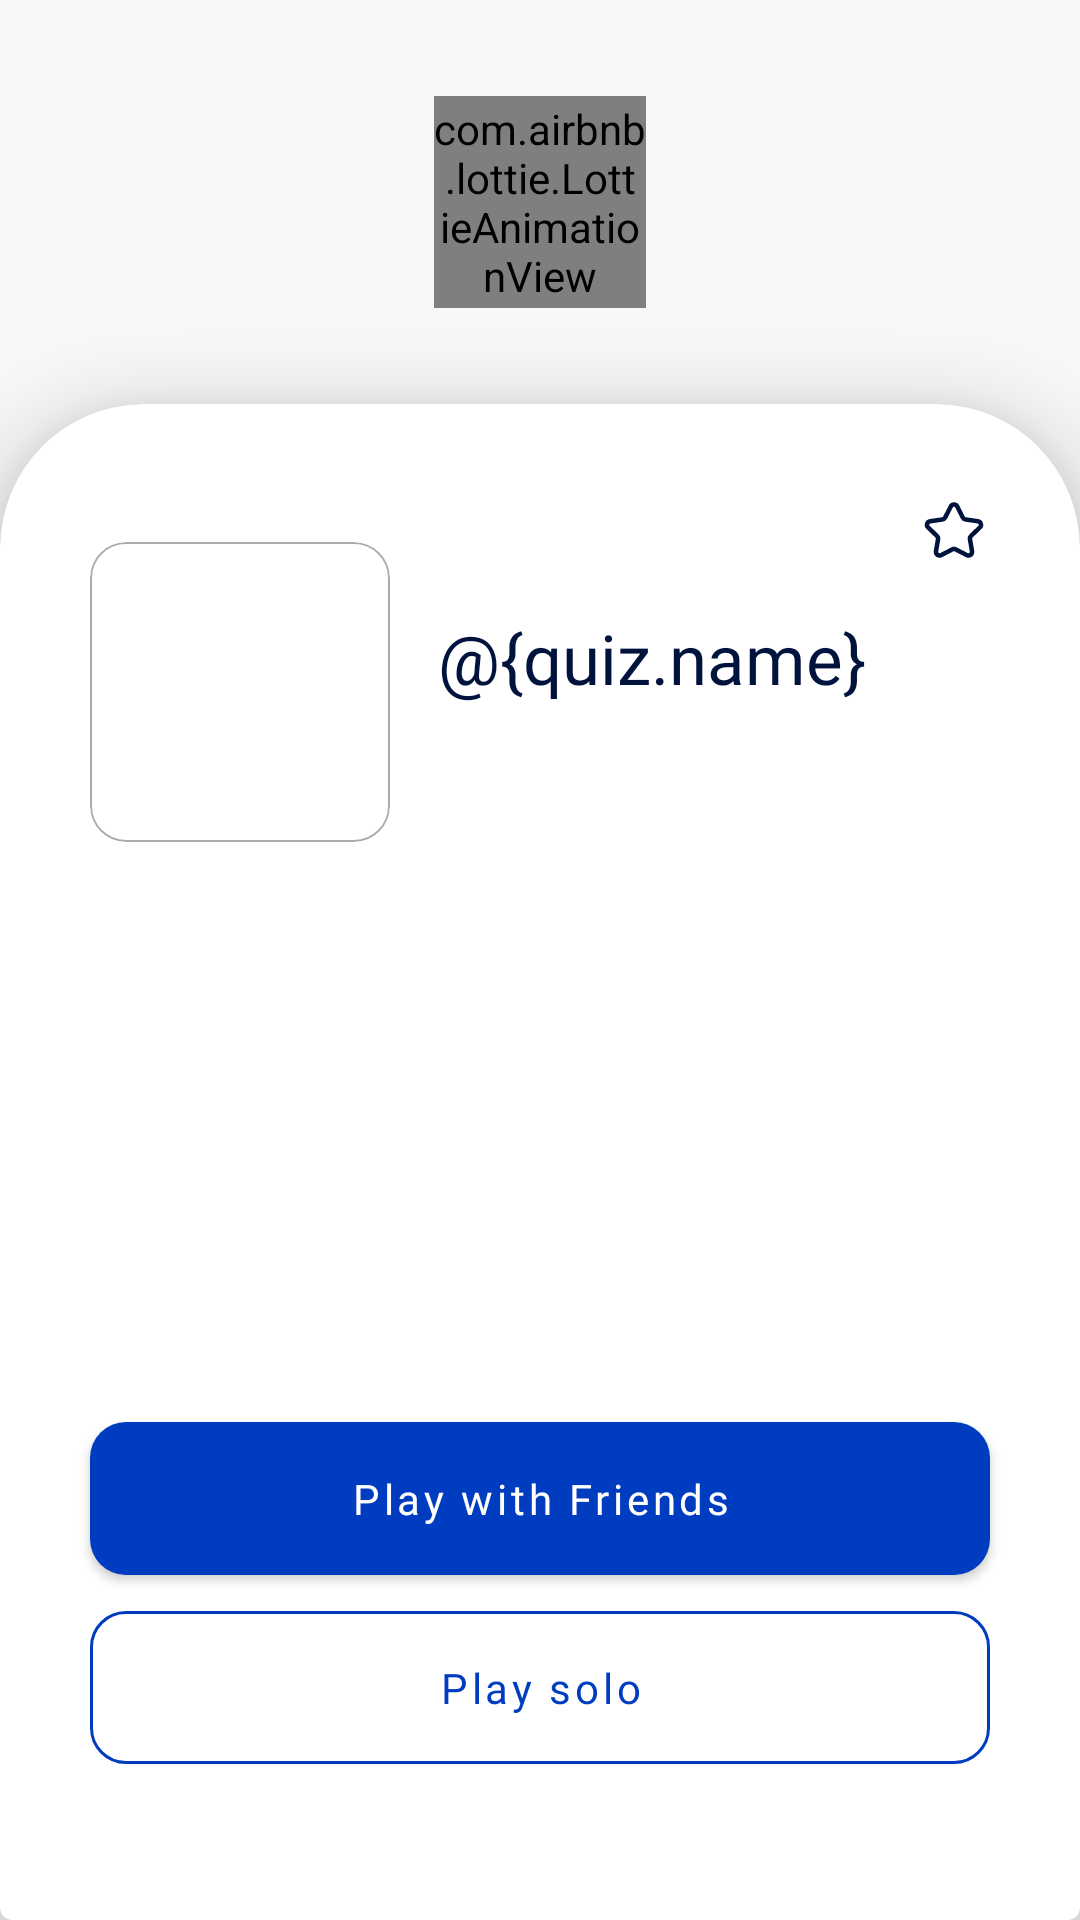

Named icons in this screenshot (1080 x 1920) and their centers, (x,y):
star: (954,530)
